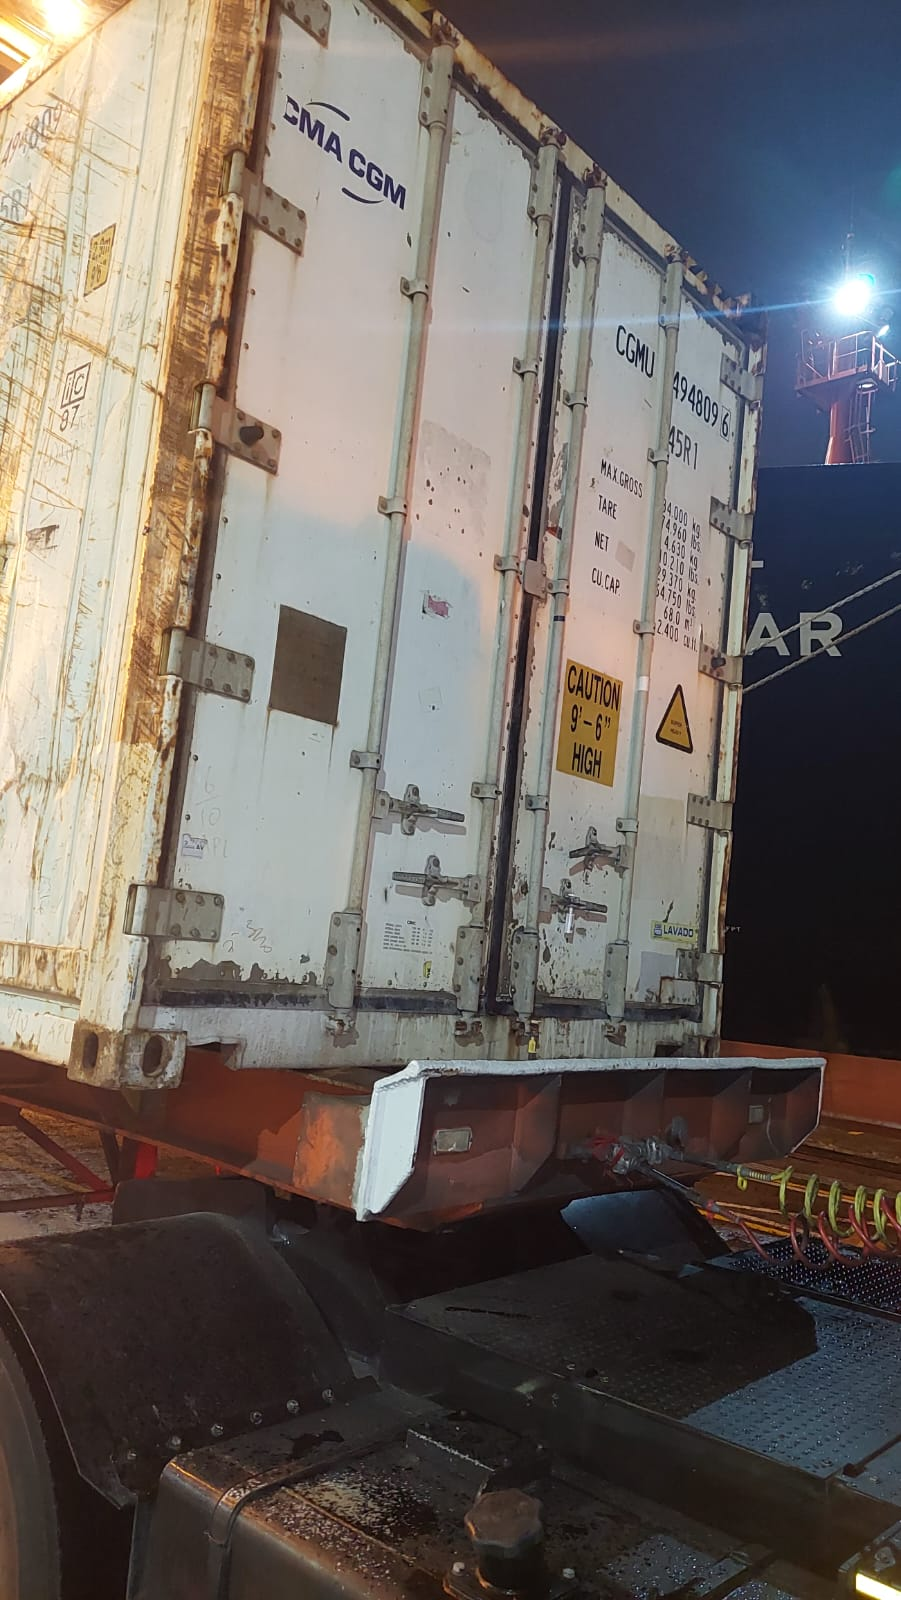minor: (94, 42, 274, 716)
